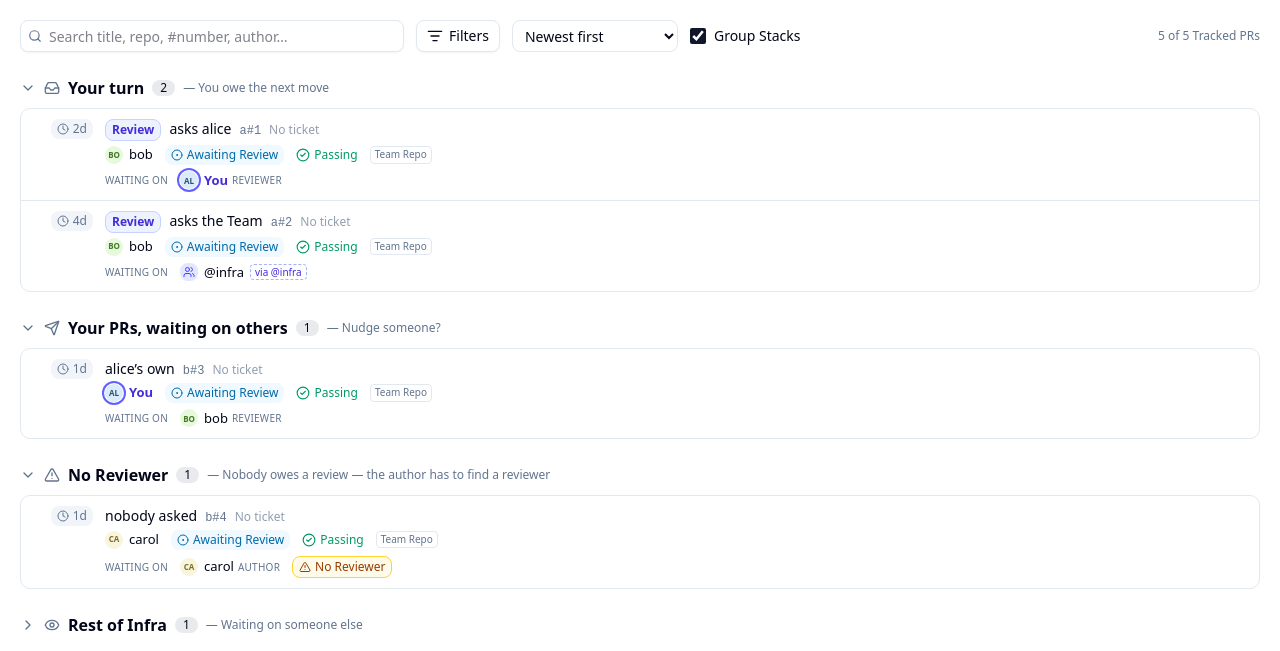
Scenario: the Inbox below 1280px › its filters › filter the Inbox as soon as one changes in the panel, through the URL the Table and Board share
Click the button "Filters": click(458, 36) 416,20 -> 500,52
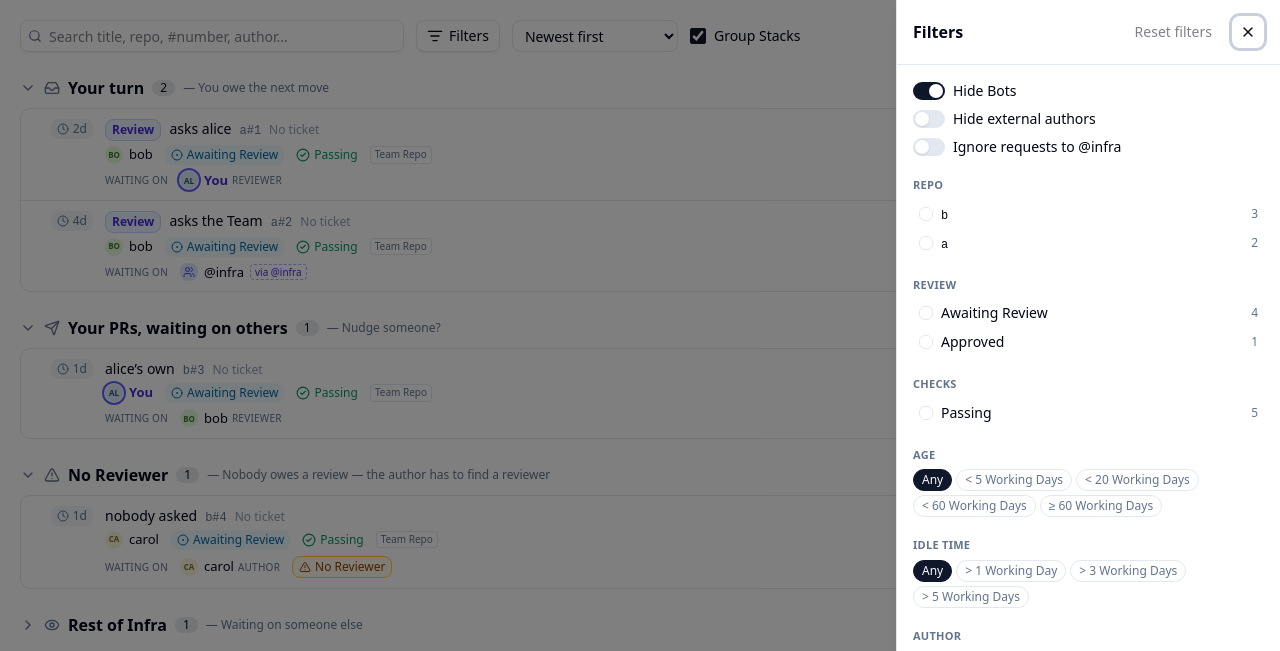
Click the checkbox labelled "a 2": click(926, 242) 913,228 -> 1264,256
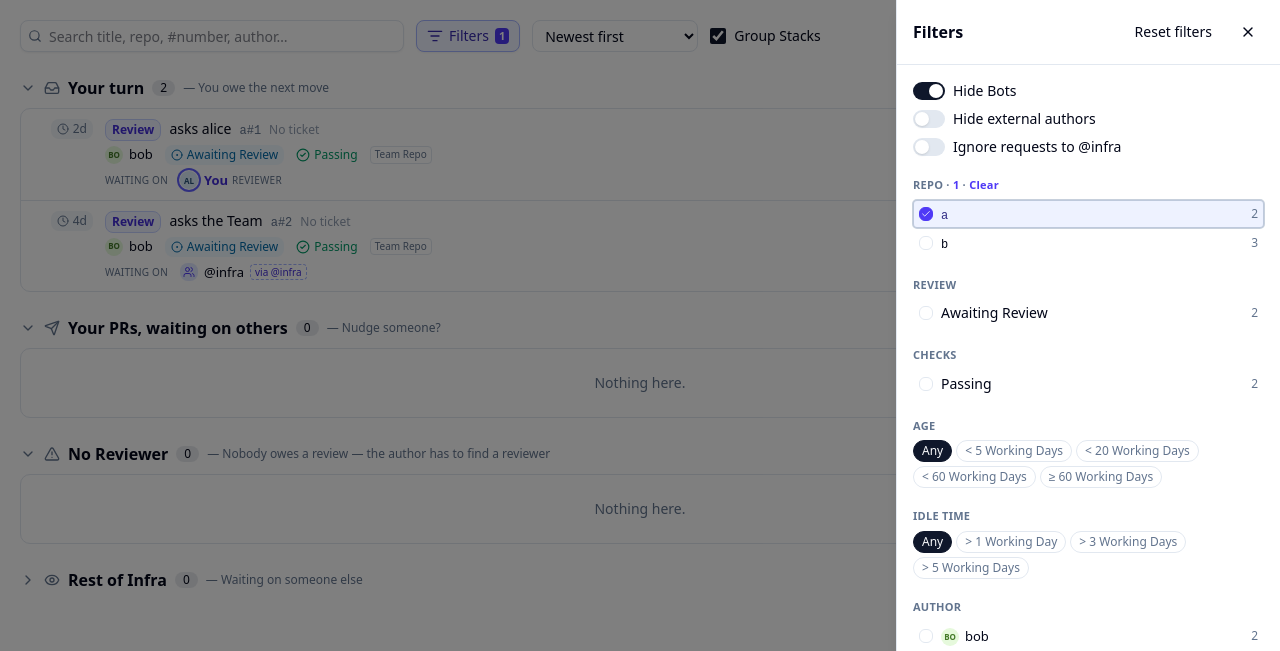
expect the button with aria-label "Filters: 1 active" is shown: met, box 416,20 -> 520,52
